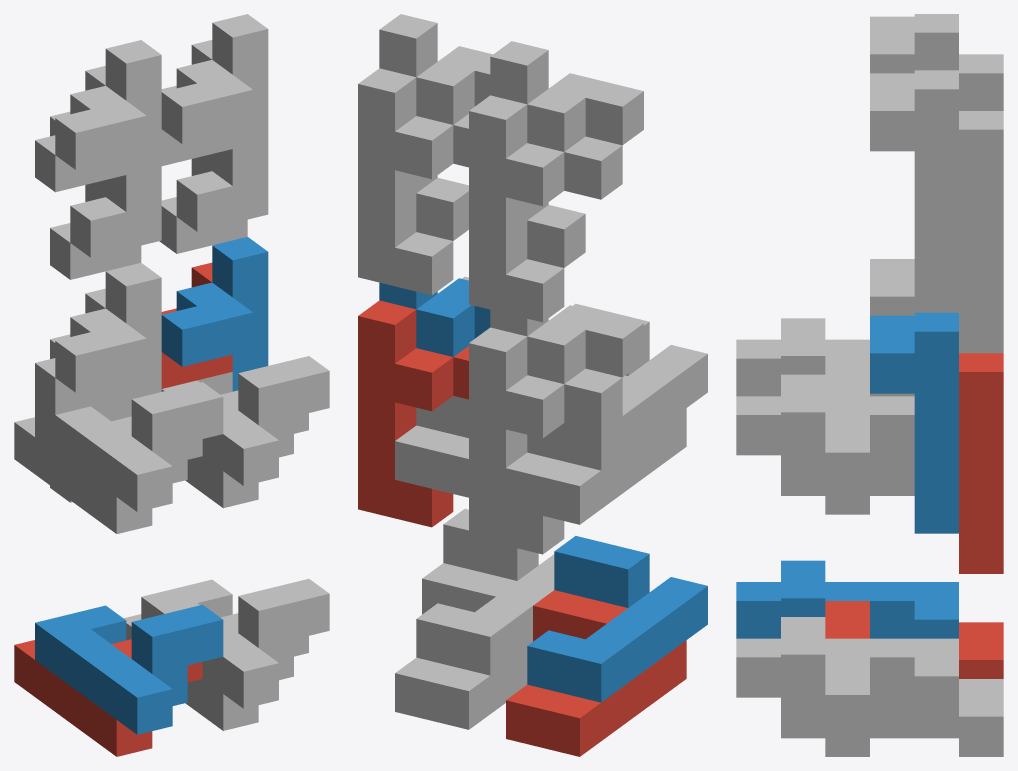
The model's file is tiling.obj.
3 renders of one model, left to right at view 1: azimuth 30°, elevation 25°; view 2: azimuth 150°, elevation 25°; view 3: azimuth 270°, elevation 25°, orthographic. The views are drawn at different scales.
Parts seen in each view (by area): view 1: copy_2_domain_8, copy_2_domain_4, copy_1_domain_2, copy_1_domain_4, copy_1_domain_6, copy_2_domain_6, copy_2_domain_2, copy_1_domain_8, copy_2_domain_3, copy_1_domain_3, copy_1_domain_1, copy_2_domain_7 (+4 smaller); view 2: copy_2_domain_3, copy_2_domain_1, copy_2_domain_7, copy_1_domain_2, copy_2_domain_5, copy_2_domain_4, copy_1_domain_6, copy_1_domain_1, copy_2_domain_8, copy_1_domain_5, copy_1_domain_4, copy_1_domain_3 (+4 smaller); view 3: copy_1_domain_6, copy_2_domain_6, copy_2_domain_8, copy_1_domain_5, copy_1_domain_2, copy_1_domain_8, copy_2_domain_5, copy_2_domain_7, copy_1_domain_7, copy_1_domain_4, copy_2_domain_4, copy_1_domain_1 (+4 smaller).
Part boxes in pixels (bbox=[...]): copy_2_domain_8: bbox=[161, 14, 268, 231]; copy_2_domain_4: bbox=[55, 40, 161, 257]; copy_1_domain_2: bbox=[35, 604, 223, 734]; copy_1_domain_4: bbox=[35, 382, 223, 511]; copy_1_domain_6: bbox=[141, 579, 329, 708]; copy_2_domain_6: bbox=[161, 237, 268, 391]; copy_2_domain_2: bbox=[55, 263, 161, 417]; copy_1_domain_8: bbox=[161, 356, 329, 485]; copy_2_domain_3: bbox=[35, 66, 141, 279]; copy_1_domain_3: bbox=[14, 416, 202, 533]; copy_1_domain_1: bbox=[14, 639, 202, 756]; copy_2_domain_7: bbox=[159, 40, 247, 253]; copy_2_domain_3: bbox=[469, 95, 622, 322]; copy_2_domain_1: bbox=[469, 327, 622, 554]; copy_2_domain_7: bbox=[358, 68, 468, 295]; copy_1_domain_2: bbox=[527, 536, 707, 702]; copy_2_domain_5: bbox=[358, 300, 468, 527]; copy_2_domain_4: bbox=[490, 41, 643, 267]; copy_1_domain_6: bbox=[416, 509, 554, 675]; copy_1_domain_1: bbox=[506, 590, 686, 756]; copy_2_domain_8: bbox=[379, 14, 492, 240]; copy_1_domain_5: bbox=[395, 563, 527, 729]; copy_1_domain_4: bbox=[527, 303, 707, 470]; copy_1_domain_3: bbox=[506, 375, 686, 524]; copy_1_domain_6: bbox=[736, 617, 958, 716]; copy_2_domain_6: bbox=[870, 312, 958, 533]; copy_2_domain_8: bbox=[870, 70, 958, 291]; copy_1_domain_5: bbox=[781, 657, 1003, 756]; copy_1_domain_2: bbox=[736, 560, 958, 638]; copy_1_domain_8: bbox=[736, 374, 914, 474]; copy_2_domain_5: bbox=[959, 353, 1003, 573]; copy_2_domain_7: bbox=[959, 111, 1003, 331]; copy_1_domain_7: bbox=[781, 415, 914, 514]; copy_1_domain_4: bbox=[736, 318, 914, 396]; copy_2_domain_4: bbox=[870, 14, 958, 73]; copy_1_domain_1: bbox=[825, 601, 1003, 678].
Size of the model in its own units: 6 by 17 by 6.
